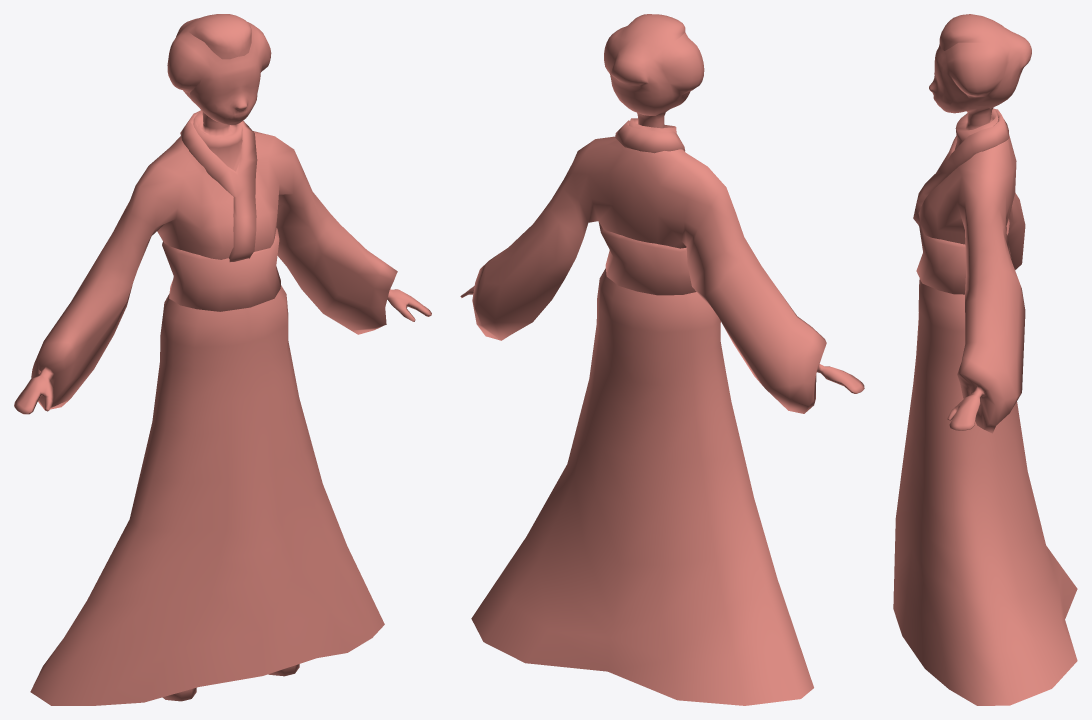
File: Geisha.glb
3 renders of one model, left to right at view 1: azimuth 30°, elevation 25°; view 2: azimuth 150°, elevation 25°; view 3: azimuth 270°, elevation 25°, orthographic. The views are drawn at different scales.
Visible parts, largest first — view 1: Geisha; view 2: Geisha; view 3: Geisha.
Boxes of the visible parts, bbox=[...] form: Geisha: bbox=[14, 14, 431, 705]; Geisha: bbox=[460, 14, 864, 705]; Geisha: bbox=[893, 14, 1077, 705].
Size of the model in its own units: 1.18 by 1.8 by 0.4857.
